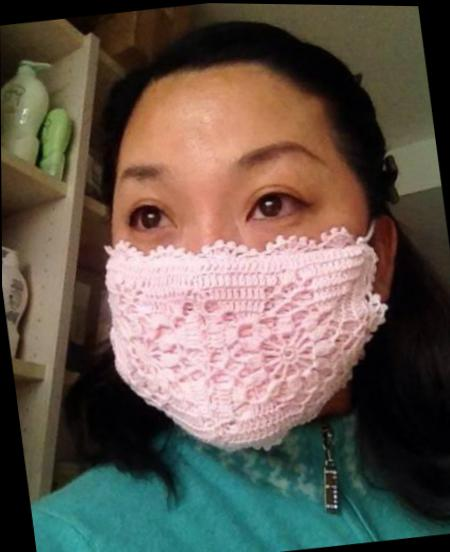WRONG: (82, 130, 410, 467)
